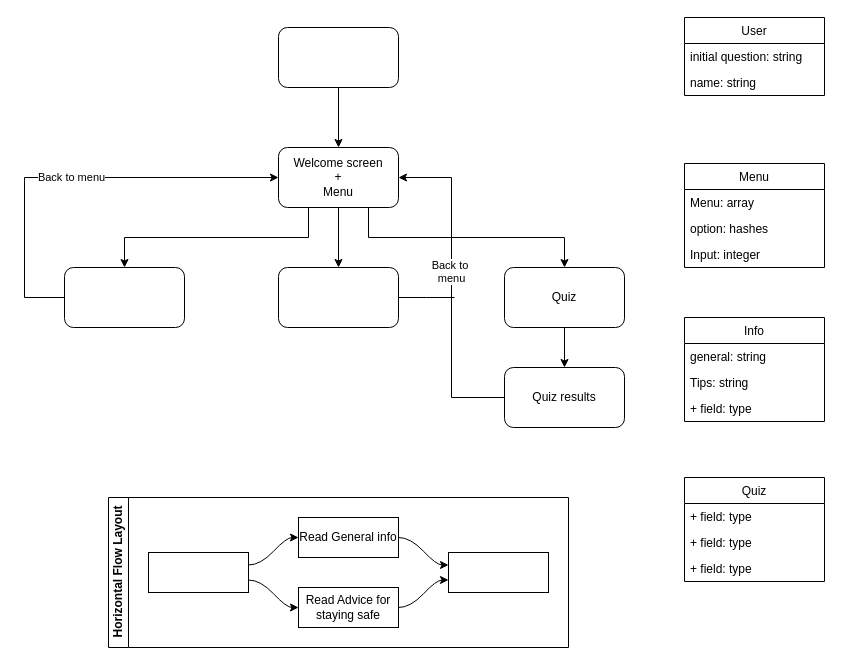
Image size: 842x665. Some labels were removed from this diagram. Here are the shapes that lost their labels. From the top down, the centre of each, then its label:
At point 338,57: "Initial Question: What is your name?".
At point 124,297: "General Covid-19 information".
At point 338,297: "Advice for staying safe".
At point 198,572: "Start application".
At point 498,572: "Attempt Quiz".
